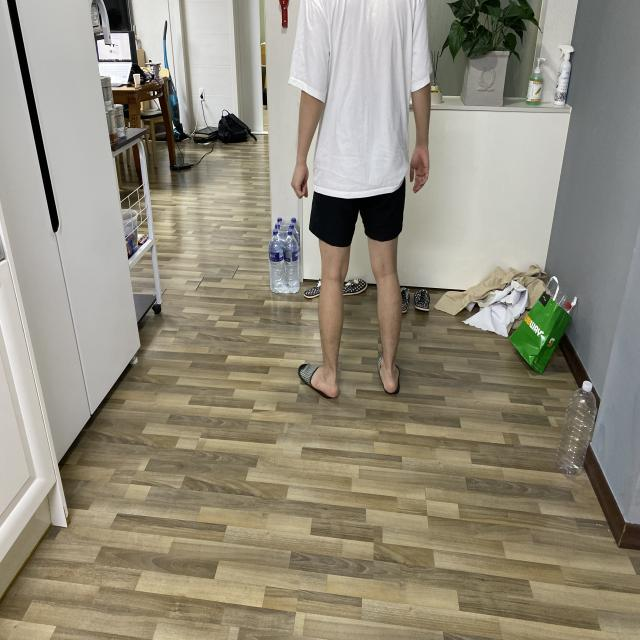no-boots: (287, 343, 352, 413), (372, 352, 413, 406)
